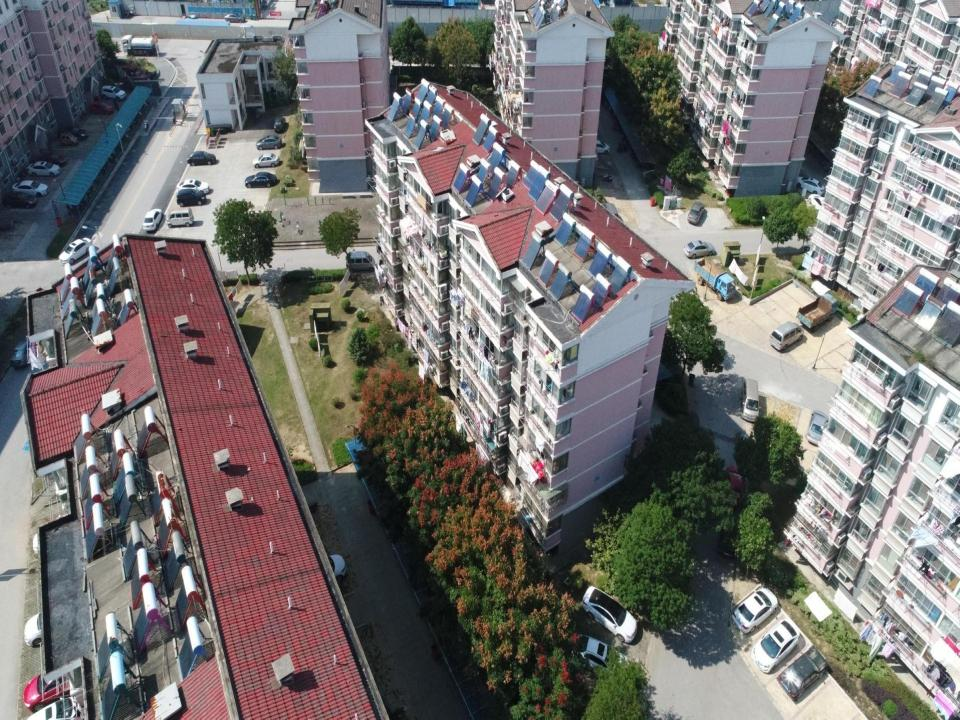car: (582, 582, 637, 643), (777, 644, 831, 698), (572, 634, 632, 682), (751, 618, 800, 674), (731, 588, 781, 634), (718, 514, 748, 560), (724, 464, 746, 516), (59, 237, 96, 265), (806, 410, 828, 448), (2, 191, 39, 208), (12, 180, 49, 197), (796, 174, 825, 195), (684, 240, 715, 259), (326, 553, 346, 582), (24, 160, 60, 176), (176, 189, 206, 206), (34, 151, 67, 166), (186, 150, 216, 166), (245, 172, 277, 187), (177, 179, 210, 193), (142, 208, 162, 231), (253, 152, 281, 168), (102, 83, 126, 101), (256, 134, 282, 150), (687, 201, 705, 224), (59, 126, 87, 140), (90, 101, 114, 115), (596, 202, 618, 217), (808, 194, 826, 211), (58, 132, 79, 146), (273, 114, 286, 132), (595, 140, 609, 156), (225, 13, 244, 23)
truck: (694, 259, 736, 301), (796, 293, 838, 331), (121, 35, 159, 56)
van: (769, 320, 804, 352), (740, 378, 759, 423), (163, 208, 194, 228), (345, 251, 374, 272)
